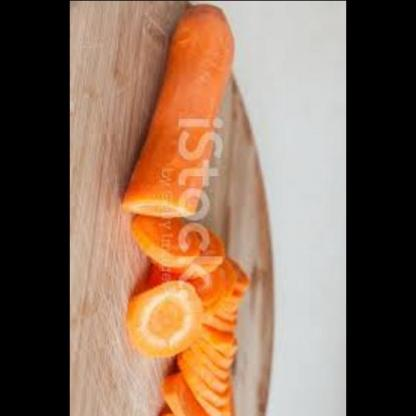carrot: (116, 3, 244, 220), (128, 224, 250, 416)
